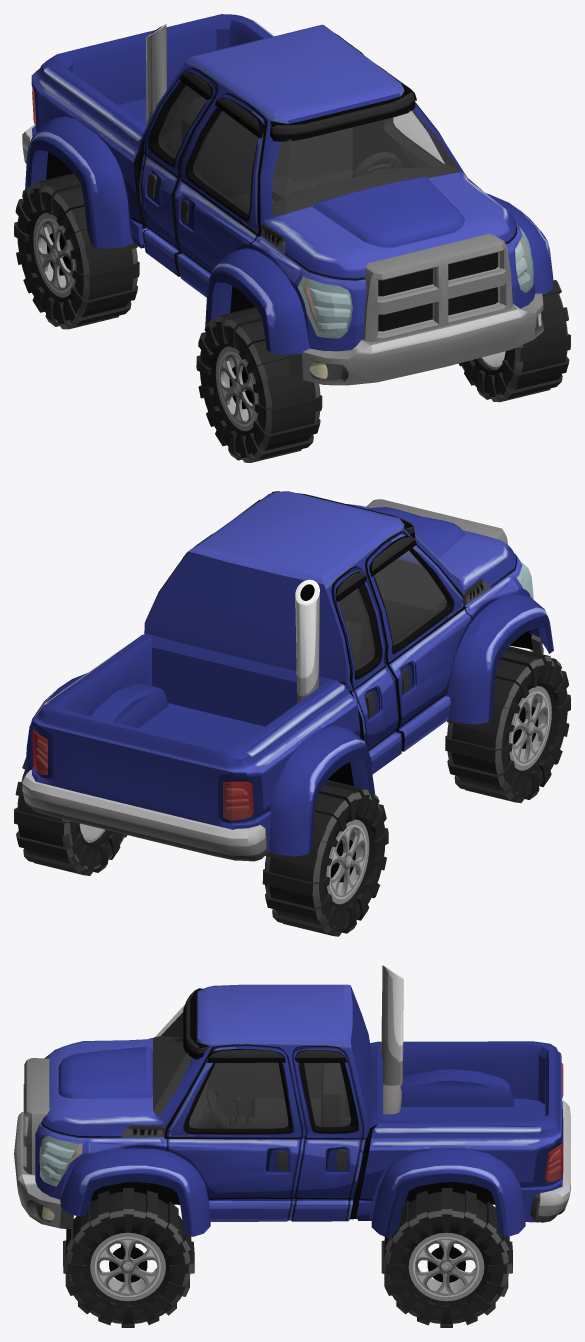
File: pickup_truck_df3578dc.glb
The picture shows the model from 3 angles, top to bottom: view 1: azimuth 30°, elevation 25°; view 2: azimuth 150°, elevation 25°; view 3: azimuth 270°, elevation 25°; orthographic projection. The views are drawn at different scales.
Parts seen in each view (by area): view 1: HCR2_SD_Body_17, HCR2_SD_Windows_5, HCR2_SD_FR_Wheel_10, HCR2_SD_RR_Wheel_9, HCR2_SD_Grl_16, HCR2_SD_Front_Bumper_15, HCR2_SD_Interior_2, HCR2_SD_Seat_1, HCR2_SD_FL_Wheel_8, HCR2_SD_Details_13, HCR2_SD_LCover_6, HCR2_SD_Lights_3 (+3 smaller); view 2: HCR2_SD_Body_17, HCR2_SD_FR_Wheel_10, HCR2_SD_RR_Wheel_9, HCR2_SD_Rear_Bumper_14, HCR2_SD_Windows_5, HCR2_SD_Interior_2, HCR2_SD_RL_Wheel_7, HCR2_SD_Exhaust_12, HCR2_SD_Details_13, HCR2_SD_LCover_6, HCR2_SD_Lights_3, HCR2_SD_Grl_16 (+1 smaller); view 3: HCR2_SD_Body_17, HCR2_SD_FL_Wheel_8, HCR2_SD_RL_Wheel_7, HCR2_SD_Windows_5, HCR2_SD_Interior_2, HCR2_SD_Details_13, HCR2_SD_Exhaust_12, HCR2_SD_Seat_1, HCR2_SD_Grl_16, HCR2_SD_Front_Bumper_15, HCR2_SD_LCover_6, HCR2_SD_Lights_3 (+4 smaller).
Boxes of the visible parts, x1,y1,x2,y2 form: HCR2_SD_Body_17: (25, 14, 553, 354); HCR2_SD_Windows_5: (158, 85, 458, 215); HCR2_SD_FR_Wheel_10: (196, 307, 322, 462); HCR2_SD_RR_Wheel_9: (14, 173, 139, 329); HCR2_SD_Grl_16: (363, 233, 512, 342); HCR2_SD_Front_Bumper_15: (288, 293, 543, 385); HCR2_SD_Interior_2: (158, 85, 458, 215); HCR2_SD_Seat_1: (181, 97, 353, 210); HCR2_SD_FL_Wheel_8: (459, 280, 570, 402); HCR2_SD_Details_13: (147, 46, 481, 254); HCR2_SD_LCover_6: (32, 87, 533, 338); HCR2_SD_Lights_3: (297, 230, 532, 338); HCR2_SD_Body_17: (25, 491, 553, 856); HCR2_SD_FR_Wheel_10: (445, 646, 570, 802); HCR2_SD_RR_Wheel_9: (262, 780, 388, 936); HCR2_SD_Rear_Bumper_14: (22, 770, 268, 861); HCR2_SD_Windows_5: (339, 534, 458, 669); HCR2_SD_Interior_2: (339, 559, 458, 670); HCR2_SD_RL_Wheel_7: (14, 757, 127, 875); HCR2_SD_Exhaust_12: (295, 579, 319, 702); HCR2_SD_Details_13: (182, 491, 490, 717); HCR2_SD_LCover_6: (32, 560, 533, 820); HCR2_SD_Lights_3: (34, 574, 525, 820); HCR2_SD_Grl_16: (366, 499, 507, 544); HCR2_SD_Body_17: (35, 984, 563, 1237); HCR2_SD_FL_Wheel_8: (63, 1188, 194, 1327); HCR2_SD_RL_Wheel_7: (381, 1188, 512, 1327); HCR2_SD_Windows_5: (153, 1005, 350, 1128); HCR2_SD_Interior_2: (153, 1012, 350, 1128); HCR2_SD_Details_13: (120, 988, 346, 1171); HCR2_SD_Exhaust_12: (381, 965, 403, 1114); HCR2_SD_Seat_1: (250, 1063, 344, 1126); HCR2_SD_Grl_16: (23, 1058, 49, 1174); HCR2_SD_Front_Bumper_15: (14, 1112, 73, 1229); HCR2_SD_LCover_6: (39, 1063, 563, 1186); HCR2_SD_Lights_3: (39, 1136, 560, 1186).
Bounding box in the file's own units: 2.63 × 2.53 × 4.78.
5 materials, 2 textured.
